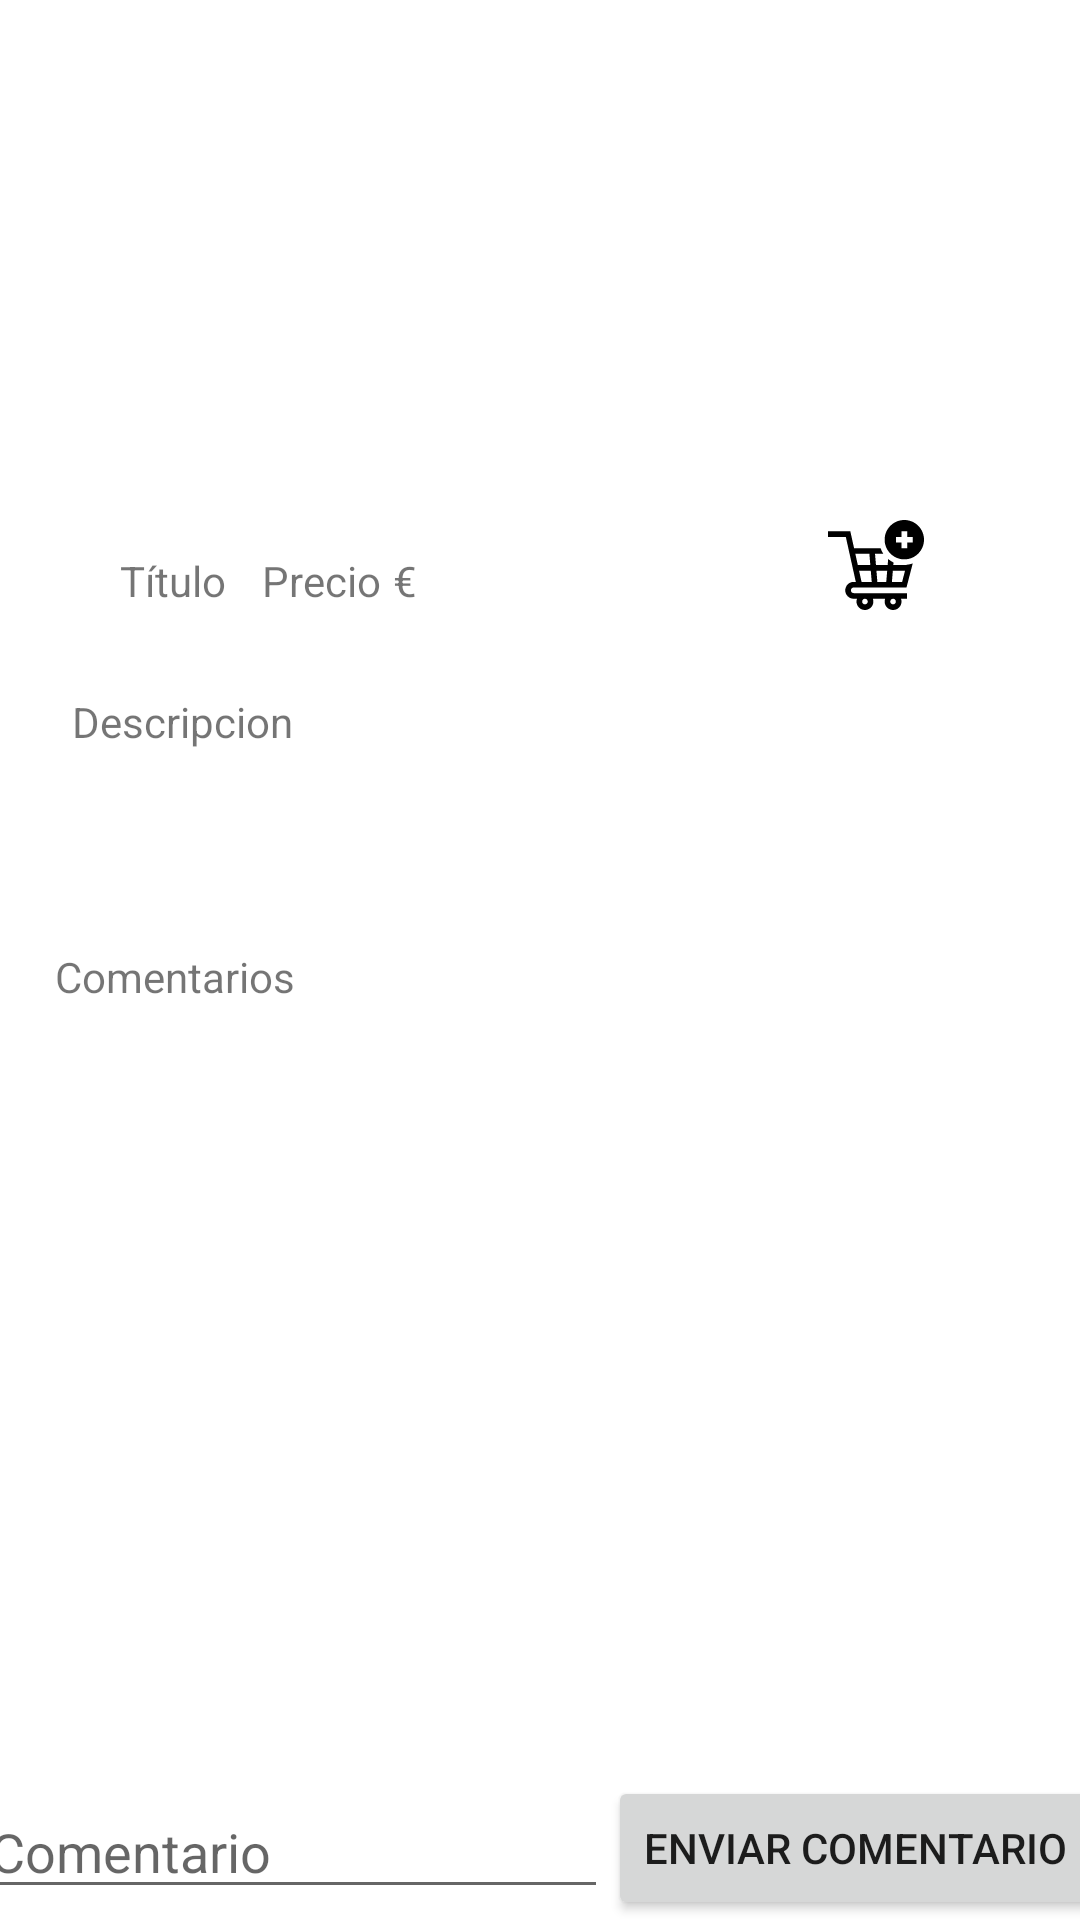

Point at icon controls on the screen. Image size 1080 x 1920, points as (x,y).
add to cart: (876,565)
